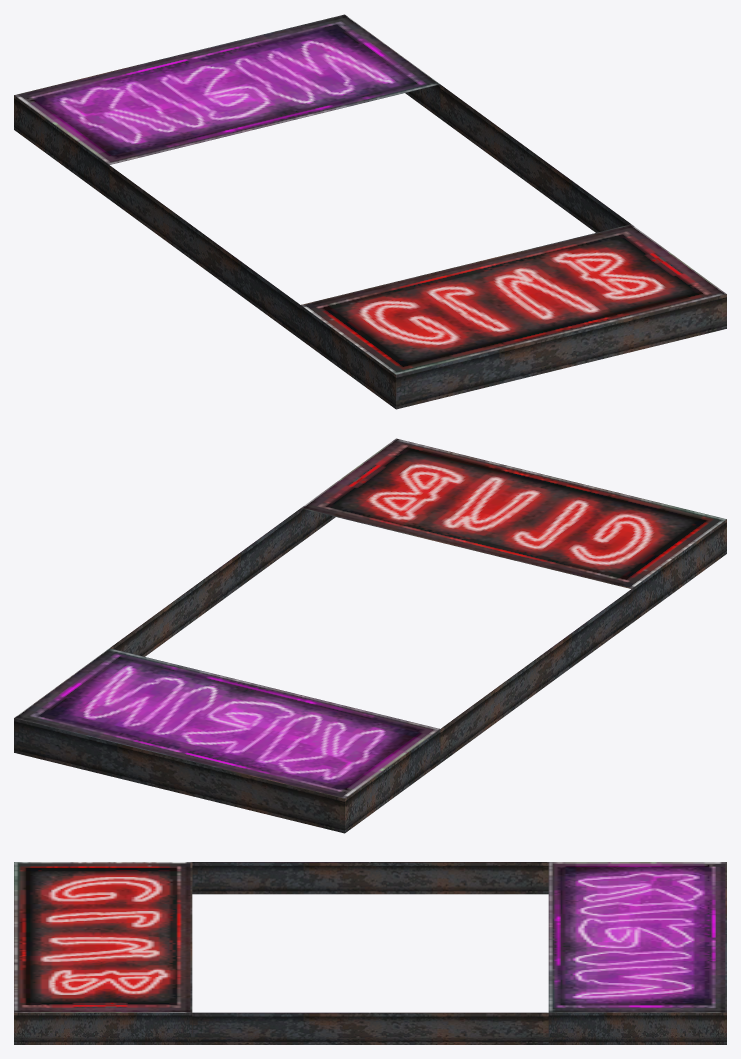
The model's file is club_kirin_int.fbx.
3 renders of one model, top to bottom at view 1: azimuth 30°, elevation 25°; view 2: azimuth 150°, elevation 25°; view 3: azimuth 270°, elevation 25°, orthographic. The views are drawn at different scales.
Parts seen in each view (by area): view 1: mesh_0; view 2: mesh_0; view 3: mesh_0.
Part boxes in pixels (x1,y1,x2,y2): mesh_0: [14, 14, 726, 409]; mesh_0: [14, 438, 726, 833]; mesh_0: [14, 862, 726, 1044].
Size of the model in its own units: 200 by 20 by 400.
1 material, 1 textured.
